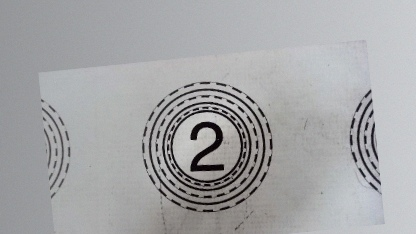2r: (133, 73, 279, 219)
